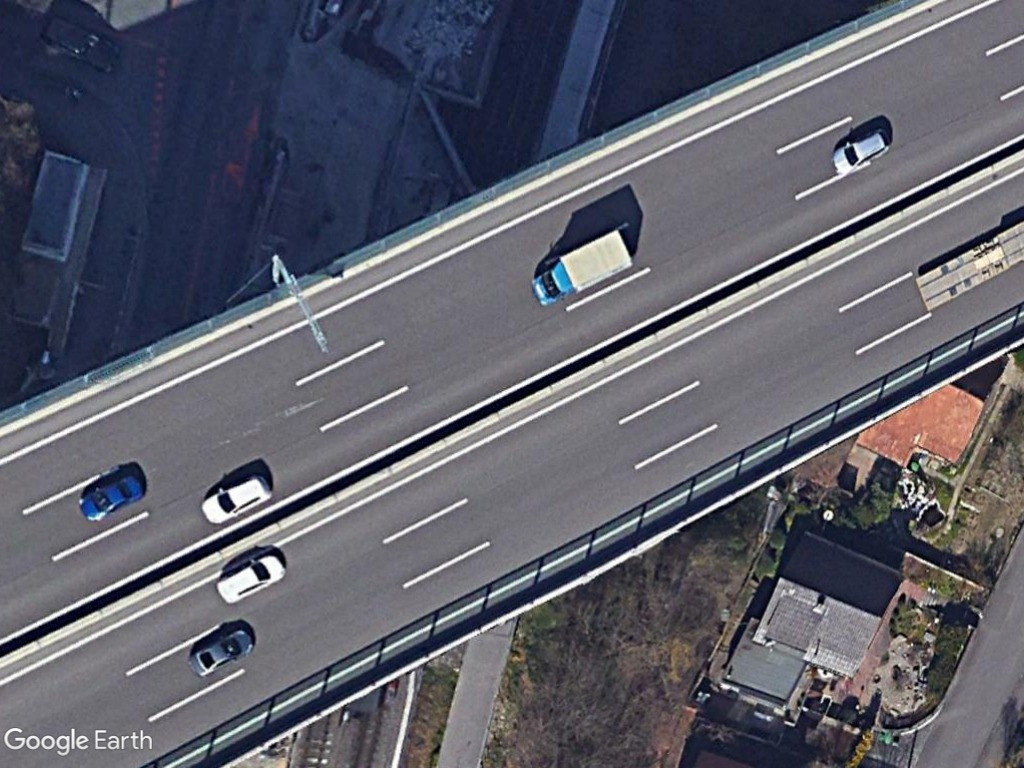car: (214, 548, 289, 605), (199, 473, 276, 528), (77, 472, 148, 523), (827, 124, 894, 177), (190, 627, 254, 678)
truck: (526, 226, 634, 316)
